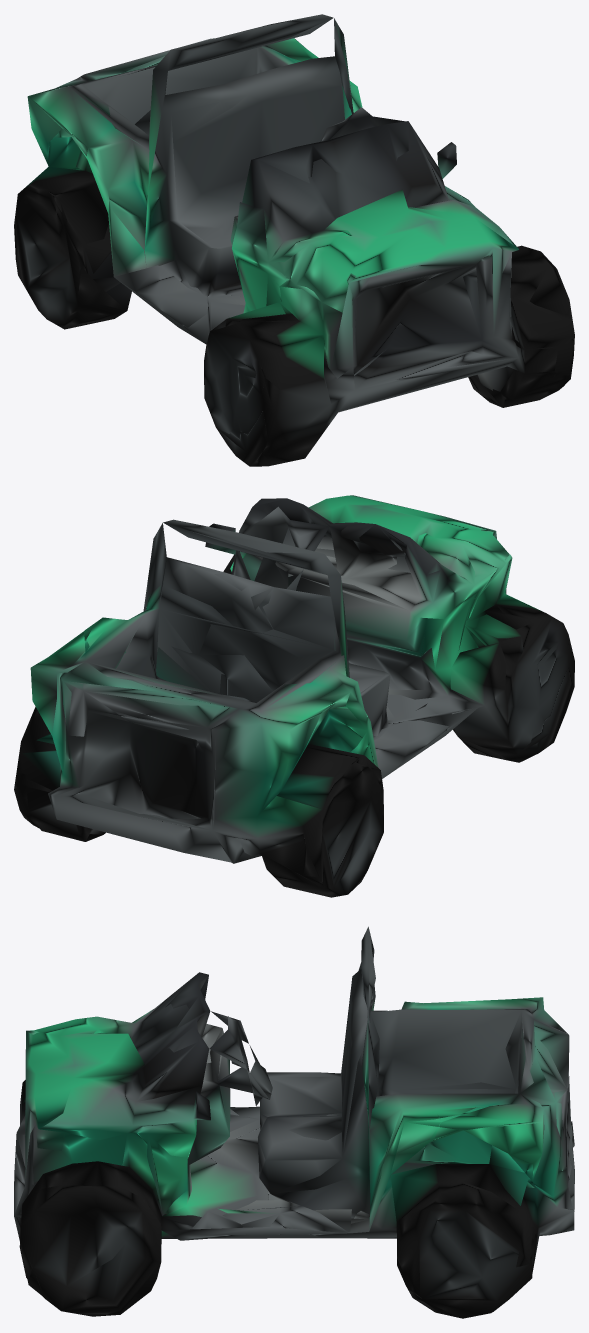
File: gen3d-ride-lod0.glb
3 renders of one model, top to bottom at view 1: azimuth 30°, elevation 25°; view 2: azimuth 150°, elevation 25°; view 3: azimuth 270°, elevation 25°, orthographic. The views are drawn at different scales.
Visible parts, largest first — view 1: part_0; view 2: part_0; view 3: part_0.
Part boxes in pixels (bbox=[...]): part_0: bbox=[14, 14, 574, 466]; part_0: bbox=[14, 495, 574, 897]; part_0: bbox=[14, 926, 574, 1318].
Bounding box in the file's own units: 1.1 × 0.9928 × 1.77.
